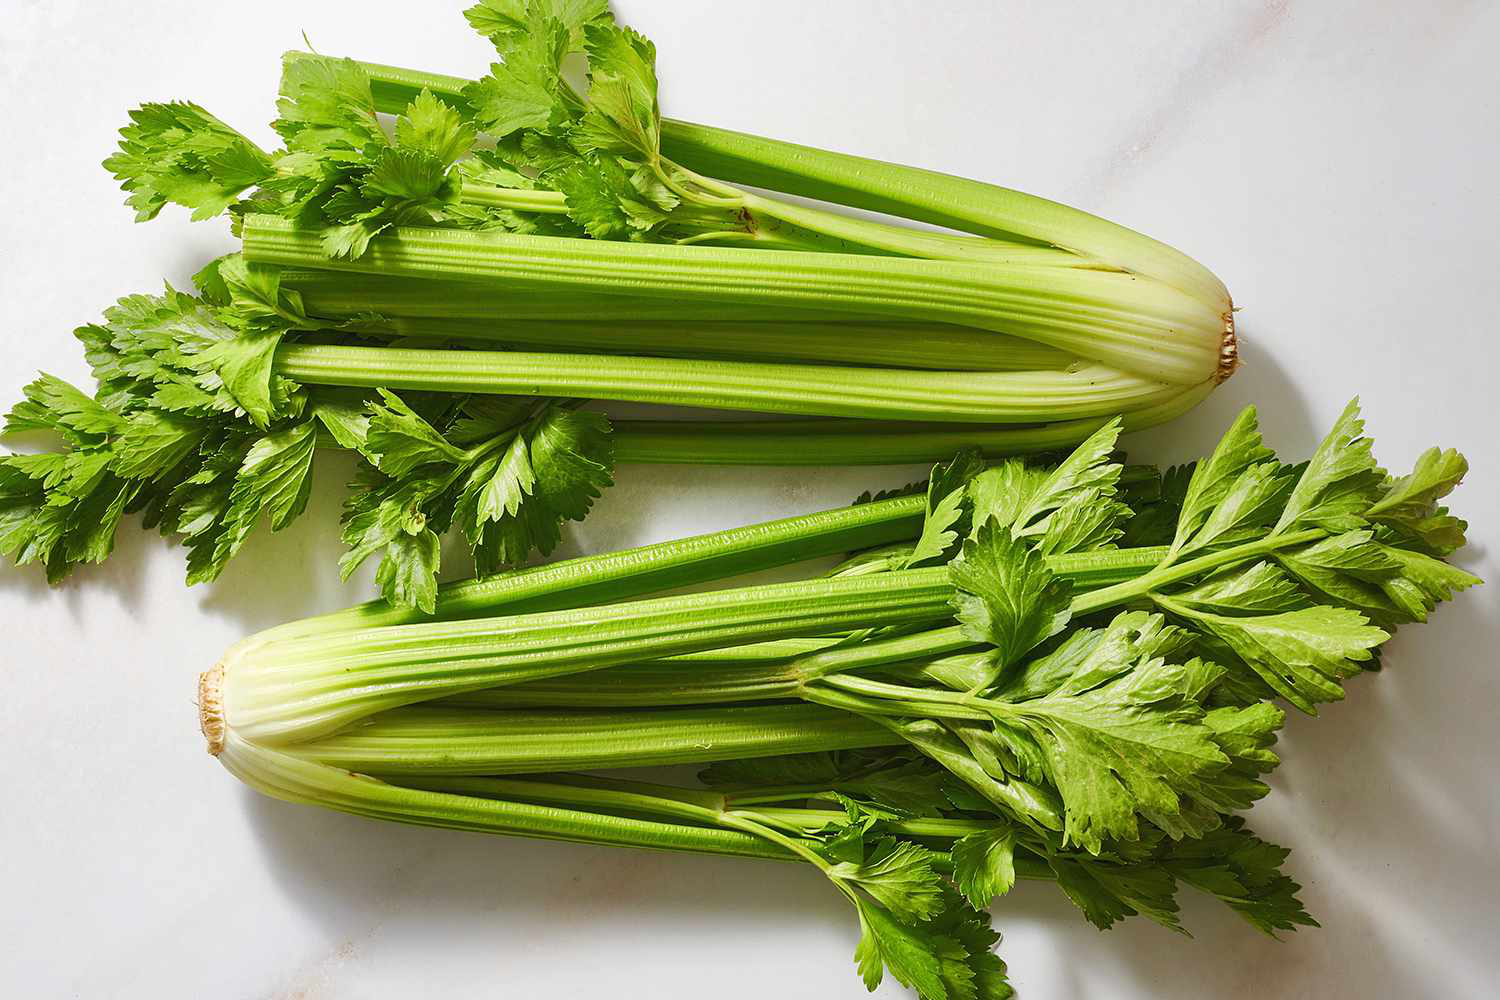Seledri: (249, 479, 1500, 940)
